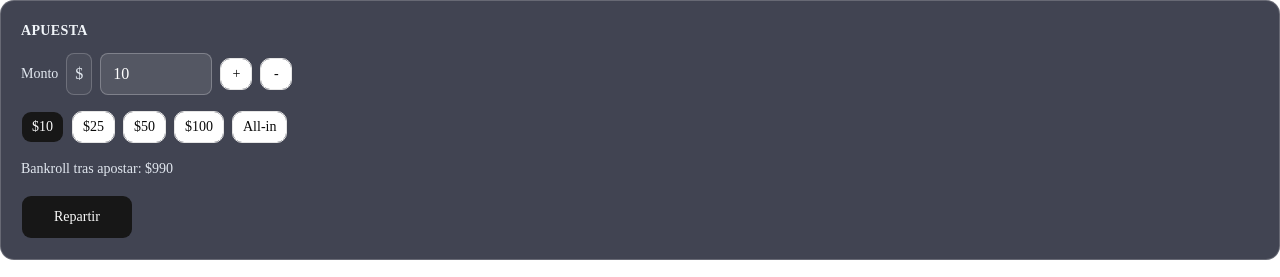
BetSelector › increments and decrements bet by $5
The image size is (1280, 277).
Expected: the button "-" is shown, [260,58,292,90]
Click the button "+". click: (236, 74)
box: [220,58,252,90]
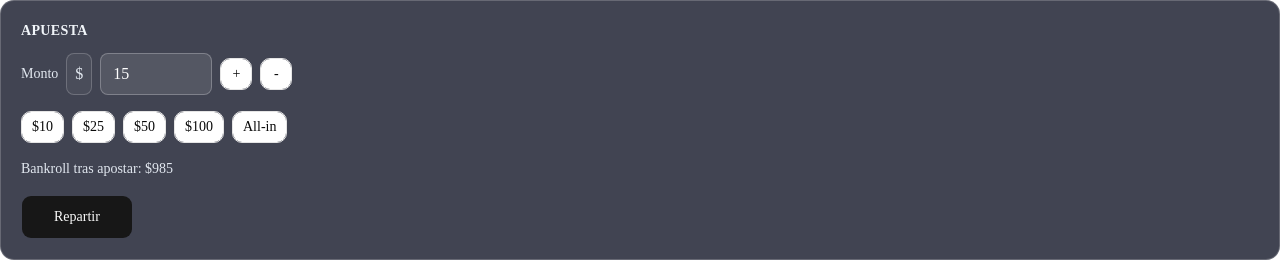
Now the field holds "15", box [100,53,212,95]
Click the button "-". click: (276, 74)
box: [260,58,292,90]
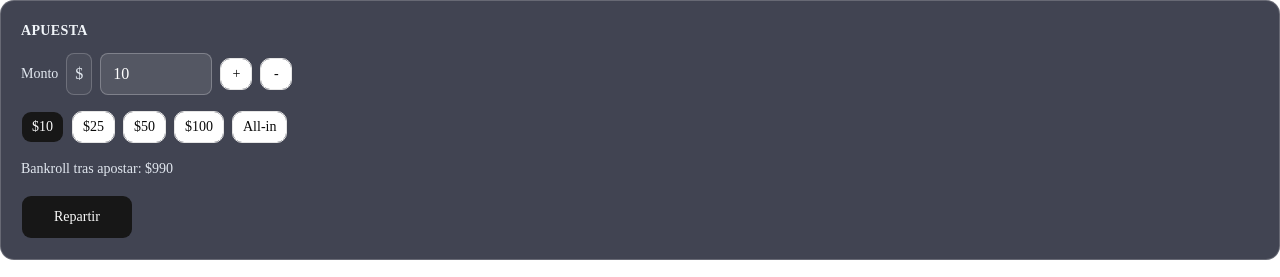
Now the field holds "10", box [100,53,212,95]
